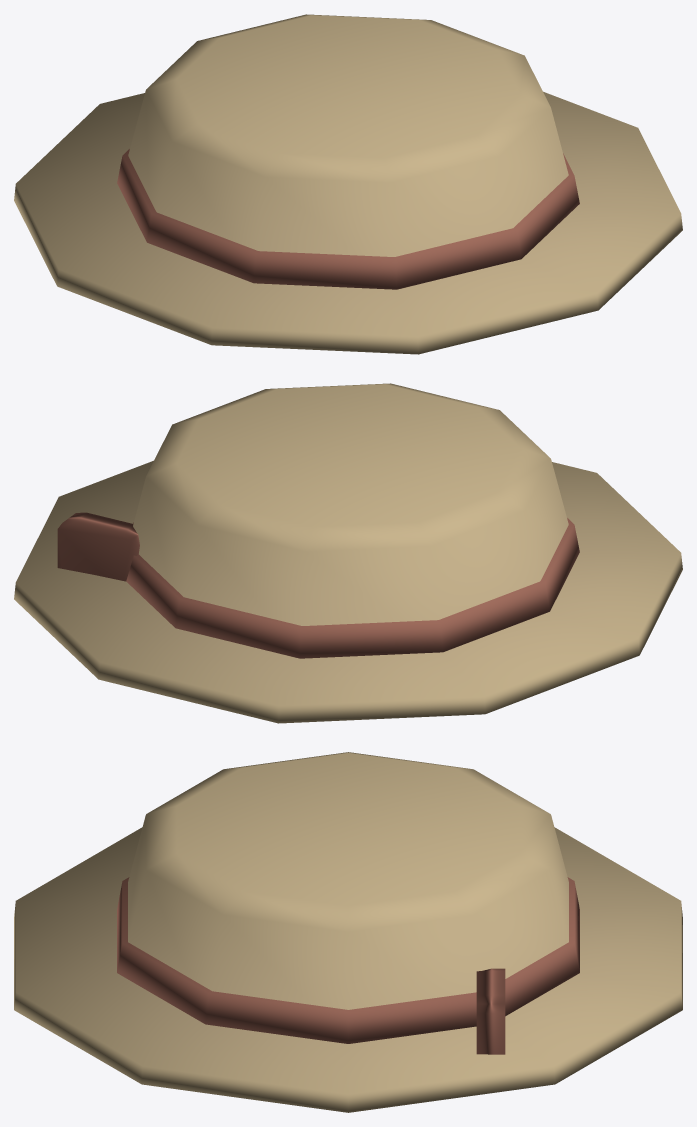
Rendered from wear_hat.glb.
3 renders of one model, top to bottom at view 1: azimuth 30°, elevation 25°; view 2: azimuth 150°, elevation 25°; view 3: azimuth 270°, elevation 25°, orthographic. The views are drawn at different scales.
Parts seen in each view (by area): view 1: Item; view 2: Item; view 3: Item.
Boxes of the visible parts, left/top/right/bottom form: Item: left=14, top=14, right=682, bottom=354; Item: left=14, top=383, right=682, bottom=723; Item: left=14, top=752, right=682, bottom=1112.
Bounding box in the file's own units: 0.6105 × 0.14 × 0.5806.
